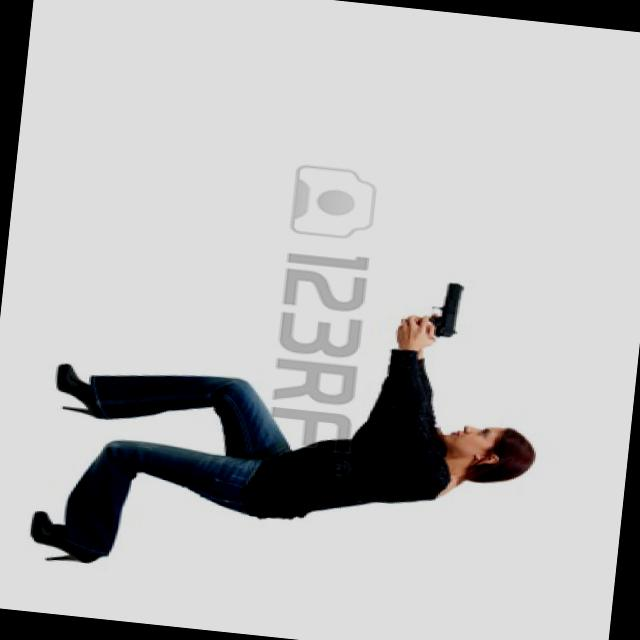handgun: (393, 271, 466, 344)
